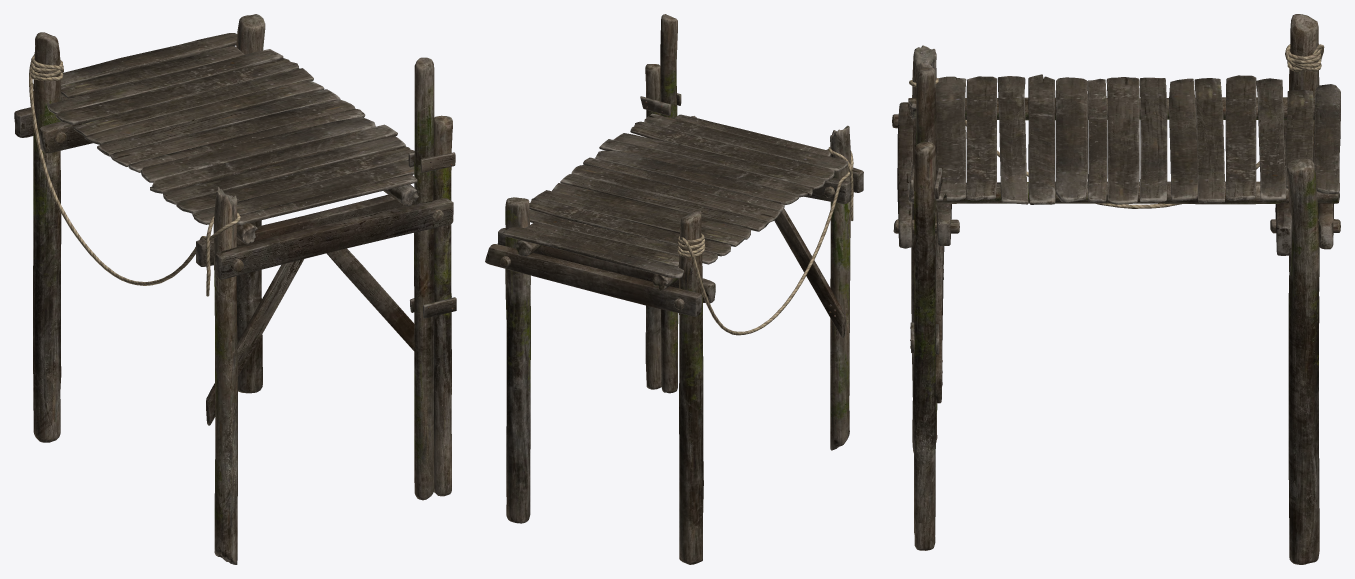
File: pier_section.glb
3 renders of one model, left to right at view 1: azimuth 30°, elevation 25°; view 2: azimuth 150°, elevation 25°; view 3: azimuth 270°, elevation 25°, orthographic. The views are drawn at different scales.
Parts seen in each view (by area): view 1: modular_wooden_pier_section_01; view 2: modular_wooden_pier_section_01; view 3: modular_wooden_pier_section_01.
Part boxes in pixels (x1,y1,x2,y2): modular_wooden_pier_section_01: (14, 14, 456, 564); modular_wooden_pier_section_01: (485, 14, 863, 564); modular_wooden_pier_section_01: (892, 14, 1340, 564).
Size of the model in its own units: 2.49 by 4.27 by 3.52.
Materials: 2 (2 with a texture image).
